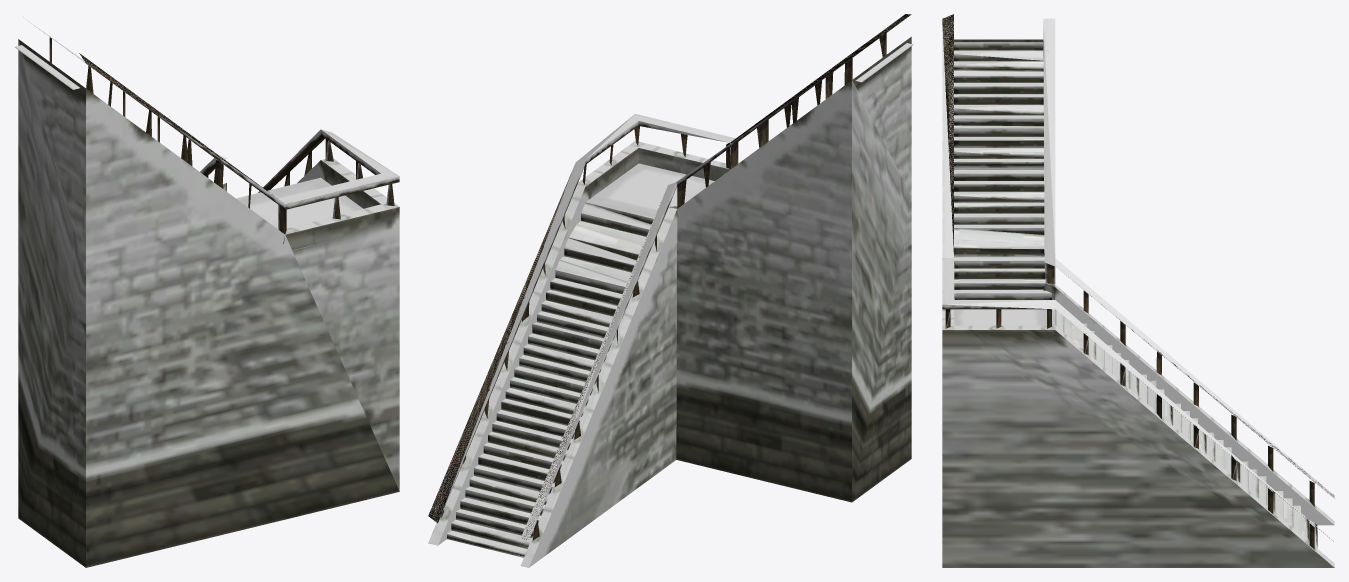
File: general_obj_watchtower02_lod_01.fbx
3 renders of one model, left to right at view 1: azimuth 30°, elevation 25°; view 2: azimuth 150°, elevation 25°; view 3: azimuth 270°, elevation 25°, orthographic. The views are drawn at different scales.
Visible parts, largest first — view 1: general_obj_watchtower02; view 2: general_obj_watchtower02; view 3: general_obj_watchtower02.
Boxes of the visible parts, bbox=[...] form: general_obj_watchtower02: bbox=[14, 17, 399, 567]; general_obj_watchtower02: bbox=[428, 14, 913, 567]; general_obj_watchtower02: bbox=[942, 14, 1334, 567].
Size of the model in its own units: 7.99 by 12.12 by 10.12.
